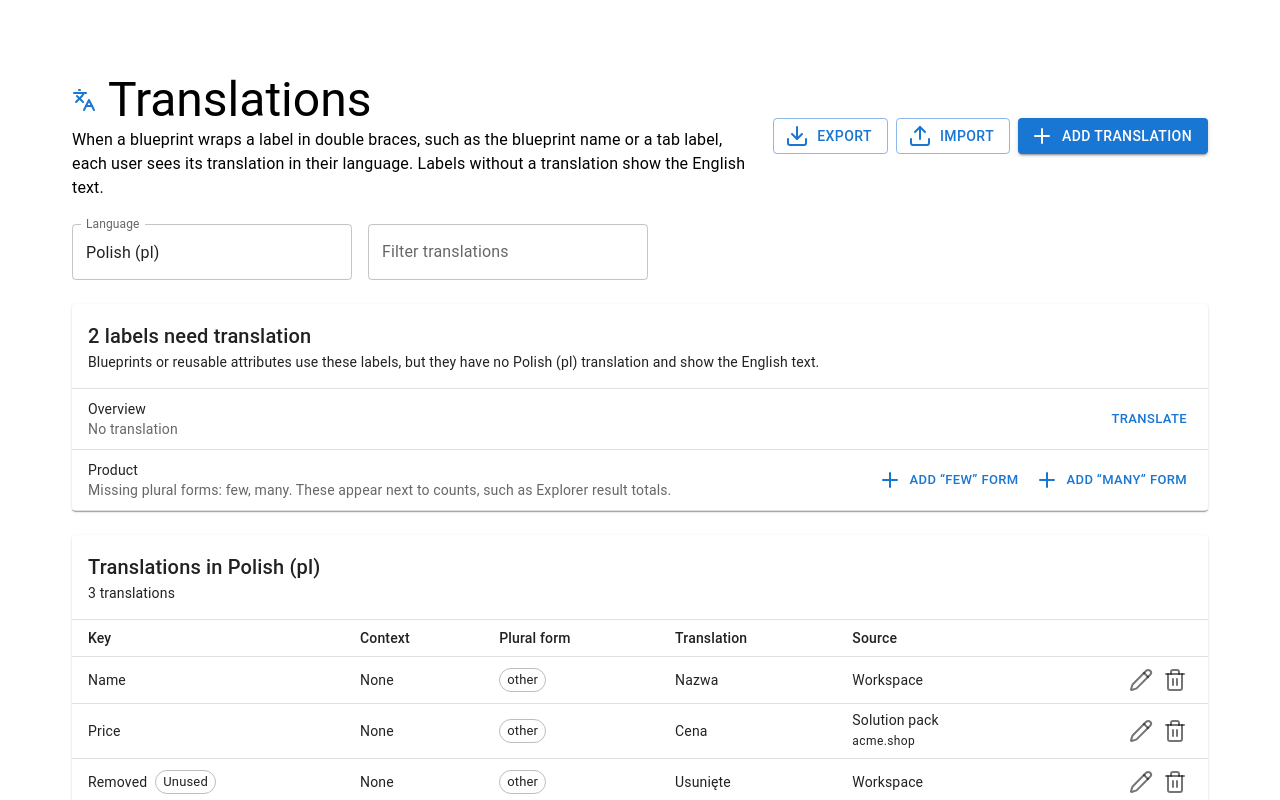
Test: LexiconPage › lists the language entries, their sources, and unused keys
expect the text "Nazwa" is shown: met, box [659,657,836,704]
expect the text "acme.shop" is shown: met, box [852,734,915,748]
In the field labelled "Filter translations": (508, 252) [368,224,648,280], type "cena"
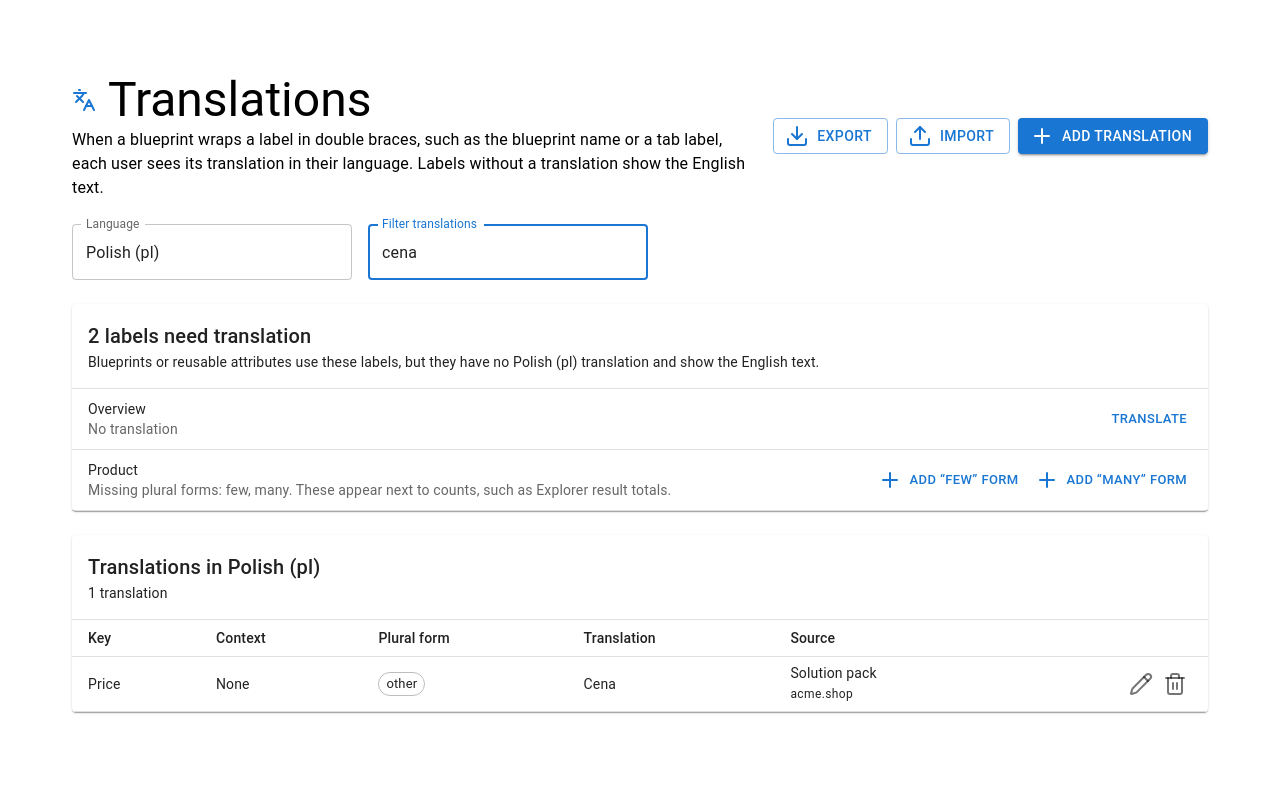
expect the number of rows is 2: met, box [72,620,1208,657]; [72,657,1208,712]
